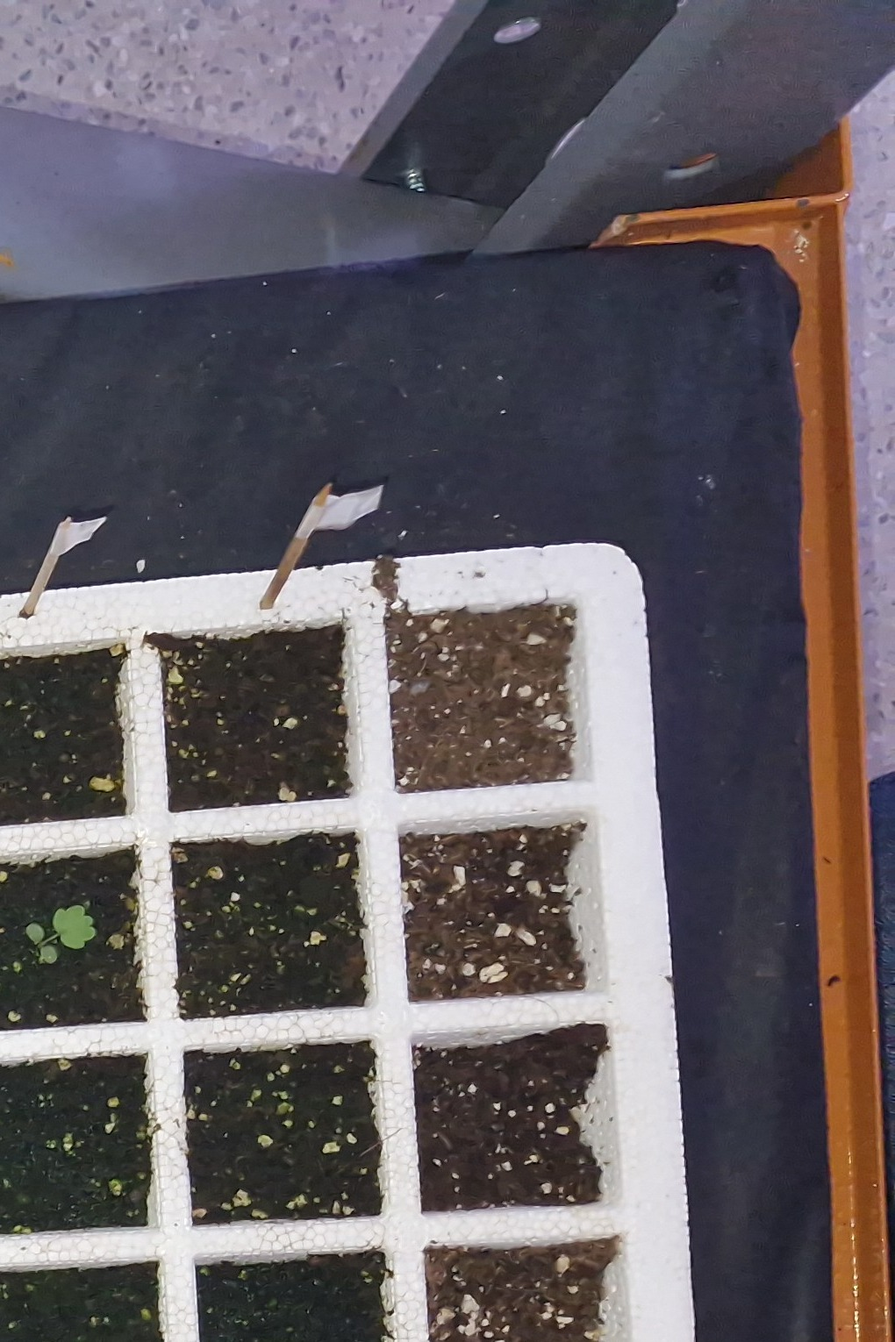Folha: (54, 907, 94, 949), (26, 924, 44, 942), (40, 947, 57, 963)
Germinacao: (26, 907, 94, 964)
